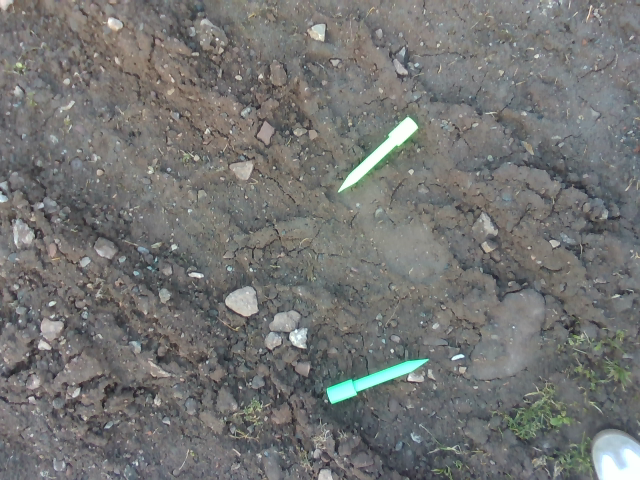Probe: (334, 112, 422, 198), (323, 354, 435, 410)
